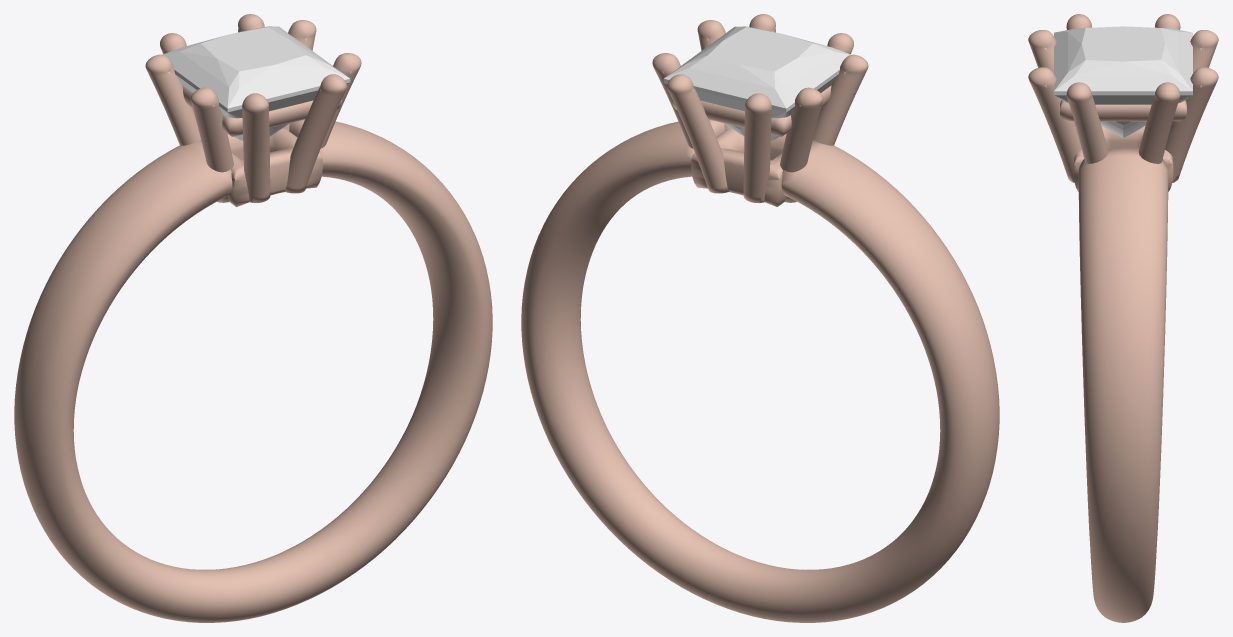
File: diamond-princess-rosegold-8prong-taperedband-solitaire.glb
The picture shows the model from 3 angles, left to right: view 1: azimuth 30°, elevation 25°; view 2: azimuth 150°, elevation 25°; view 3: azimuth 270°, elevation 25°; orthographic projection.
Parts seen in each view (by area): view 1: metal, stone; view 2: metal, stone; view 3: metal, stone.
Part boxes in pixels (left/top/right/bottom): metal: left=14, top=14, right=492, bottom=622; stone: left=162, top=26, right=350, bottom=140; metal: left=521, top=14, right=999, bottom=622; stone: left=663, top=26, right=851, bottom=140; metal: left=1028, top=14, right=1218, bottom=622; stone: left=1054, top=26, right=1192, bottom=137.
Bounding box in the file's own units: 20.5 × 23.85 × 7.42.
